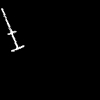double_crochet: (2, 9, 23, 50)
